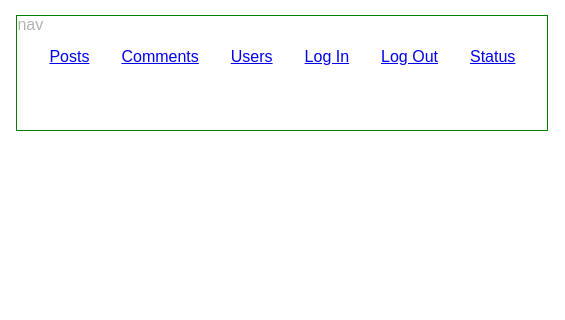
Test case: Forum Features › Has a Page for Comments
What coordinates should you click on to do the following:
click the link "Comments"
I would click on:
 (160, 57)
Its box is [121,48,198,65].
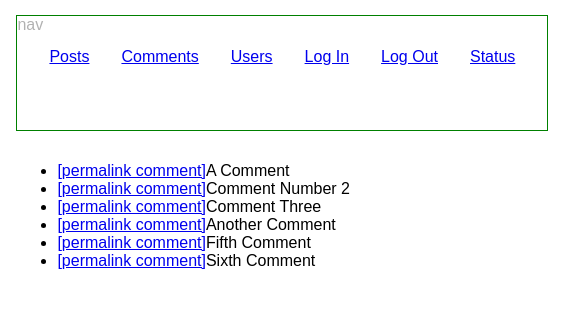
Result: the element that starts with "[permalink comment]" is shown at [57,162,350,269]
What coordinates should you click on to do the following:
click the link "[permalink comment]" next to "A Comment"
I would click on:
 (132, 171)
Its box is [57,162,206,179].
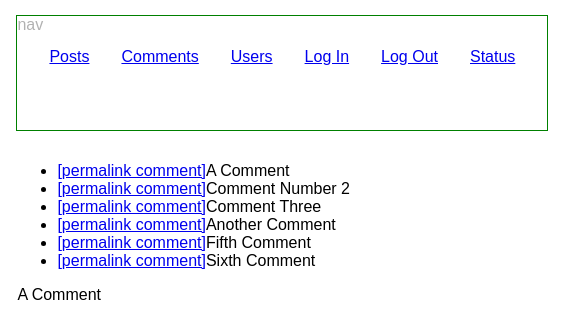
Result: the element showing "A Comment" is shown at [17,286,101,303]
